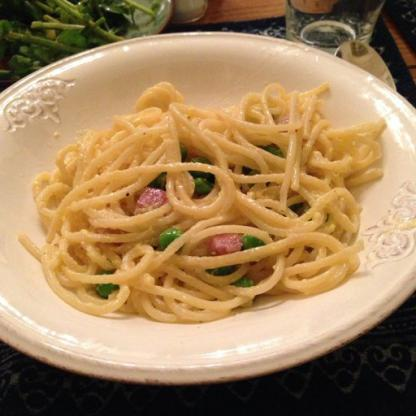Noodles: (14, 80, 387, 324)
